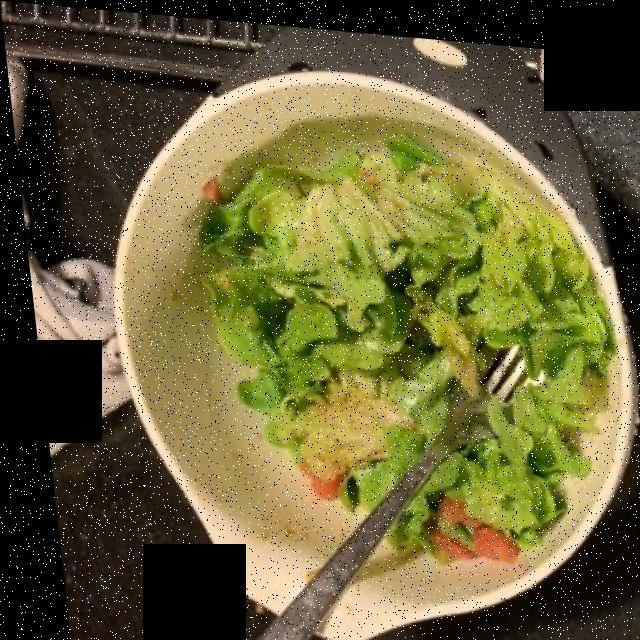salad: (189, 130, 598, 547)
tomato: (286, 459, 503, 557)
